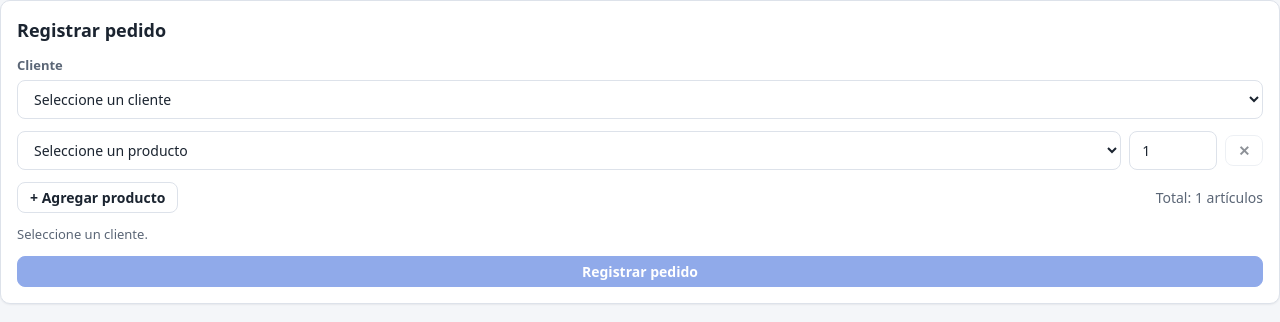
Test case: OrderForm › rejects an out-of-range quantity before sending anything
Select "Aurora Tech · Exprés" in the dropdown labelled "Cliente": point(640, 99) [17,80,1263,118]
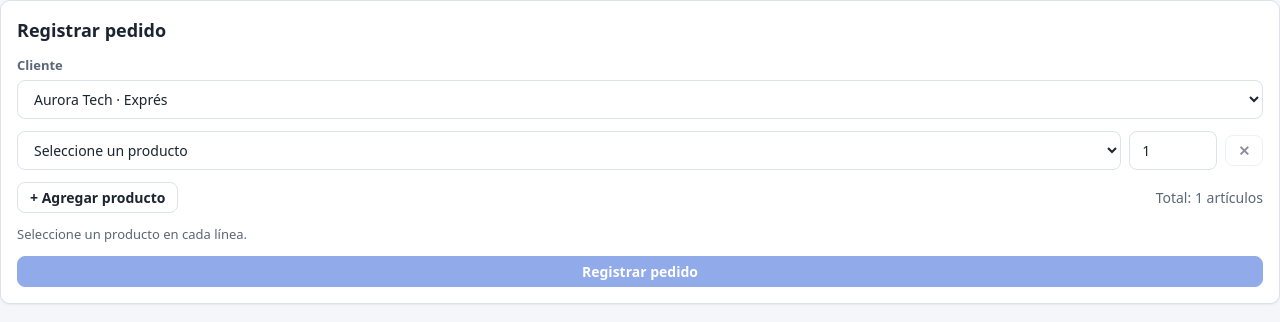
Select "Camiseta · Estándar" in the dropdown named "Producto 1": point(569, 150) [17,130,1121,170]
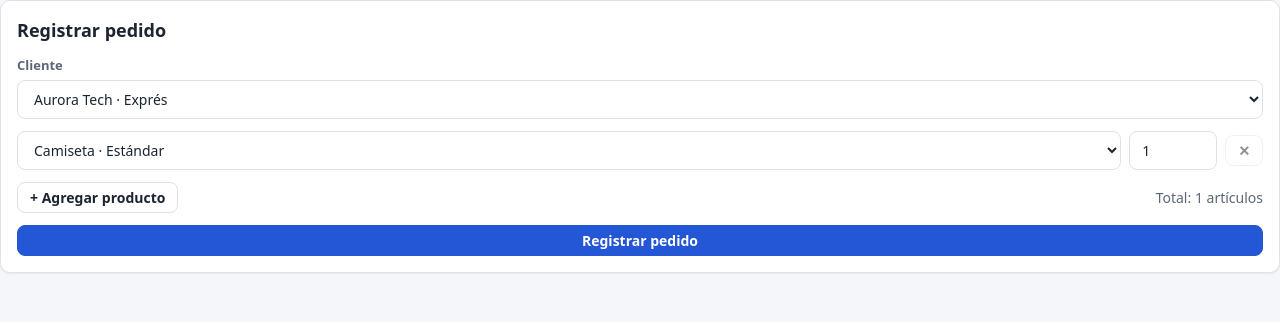
Replace the text in the number field named "Cantidad 1" with "0": point(1173, 150) [1129,130,1217,170]
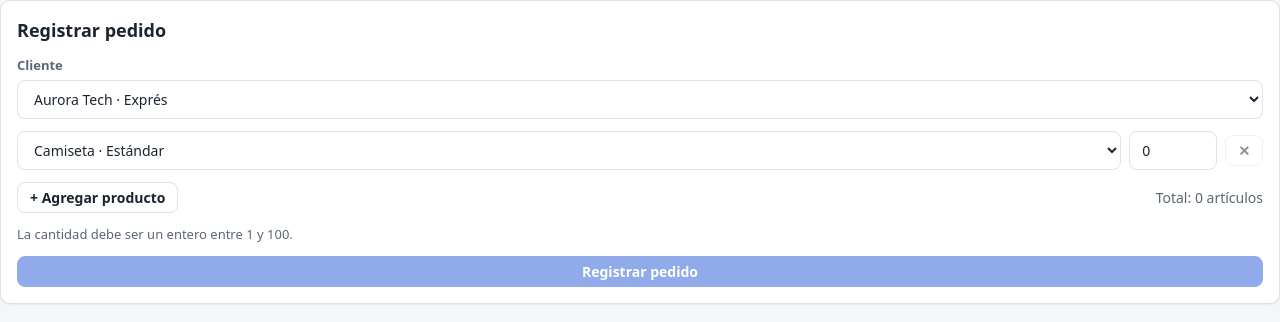
Now the button "Registrar pedido" is disabled, box [17,256,1263,287]
Now the text "La cantidad debe ser un entero entre 1 y 100." is shown, box [17,224,293,242]
